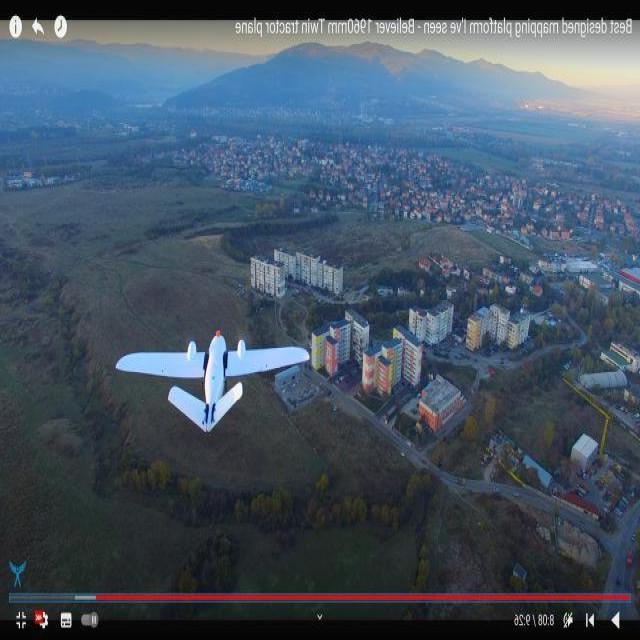UAV: (137, 337, 307, 418)
